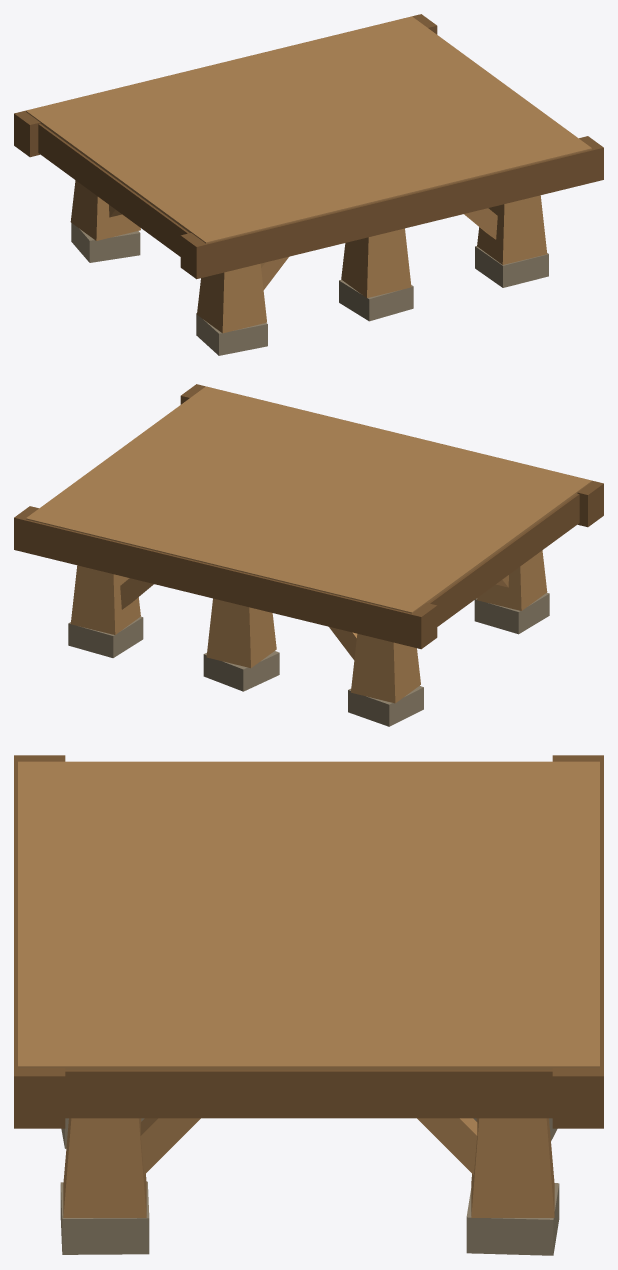
Rendered from foundation.glb.
3 views of the same model, one above another, from view 1: azimuth 30°, elevation 25°; view 2: azimuth 150°, elevation 25°; view 3: azimuth 270°, elevation 25° (orthographic). The views are drawn at different scales.
Parts seen in each view (by area): view 1: floor_deck, floor_frame, legs, stone_shoes; view 2: floor_deck, floor_frame, legs, stone_shoes; view 3: floor_deck, floor_frame, legs, stone_shoes.
Boxes of the visible parts, x1=… form: floor_deck: x1=26, y1=16, x2=591, y2=243; floor_frame: x1=14, y1=14, x2=603, y2=279; legs: x1=70, y1=180, x2=547, y2=333; stone_shoes: x1=71, y1=223, x2=548, y2=355; floor_deck: x1=26, y1=386, x2=591, y2=613; floor_frame: x1=14, y1=384, x2=603, y2=649; legs: x1=70, y1=550, x2=547, y2=703; stone_shoes: x1=68, y1=593, x2=549, y2=726; floor_deck: x1=18, y1=761, x2=599, y2=1069; floor_frame: x1=14, y1=755, x2=603, y2=1128; legs: x1=63, y1=1118, x2=554, y2=1217; stone_shoes: x1=60, y1=1118, x2=559, y2=1255.
Bounding box in the file's own units: 1.92 × 0.59 × 1.49.
